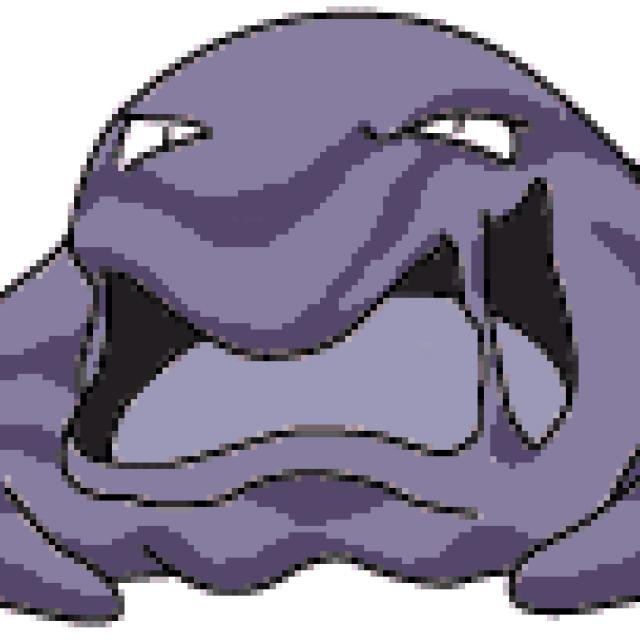Muk: (0, 7, 640, 609)
